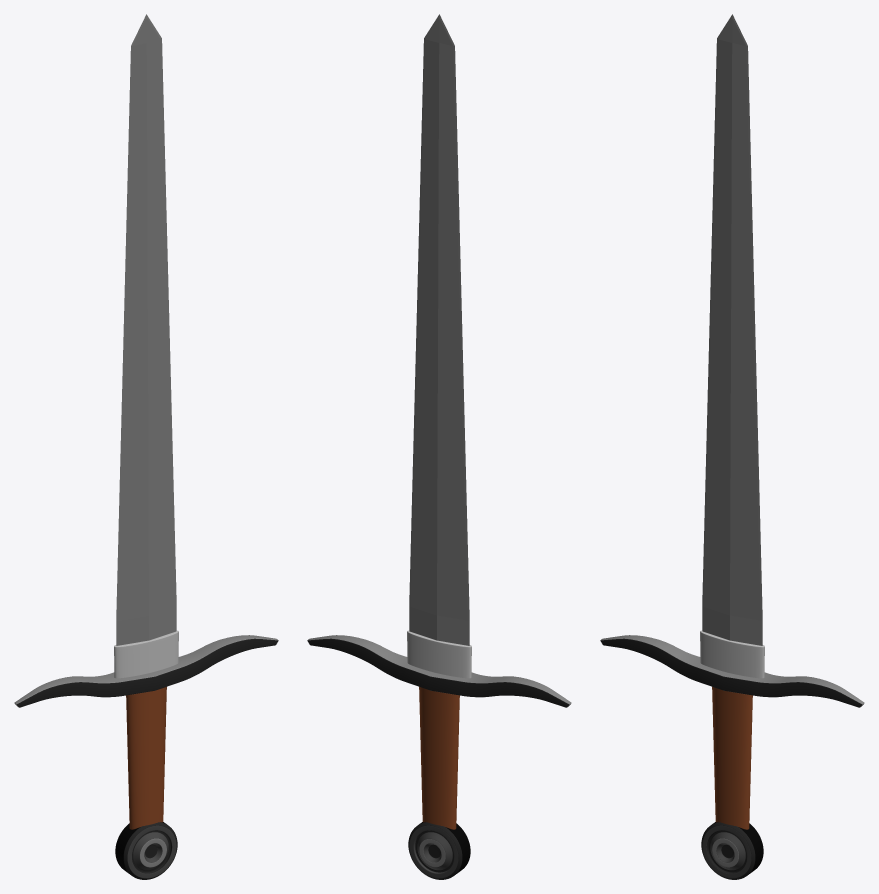
The model's file is Espada.fbx.
The picture shows the model from 3 angles, left to right: view 1: azimuth 30°, elevation 25°; view 2: azimuth 150°, elevation 25°; view 3: azimuth 330°, elevation 25°; orthographic projection.
Visible parts, largest first — view 1: Espada; view 2: Espada; view 3: Espada.
Boxes of the visible parts, box(x1,y1,x2,y2) form: Espada: box(14, 14, 278, 879); Espada: box(307, 14, 571, 879); Espada: box(600, 14, 864, 879).
Size of the model in its own units: 966 by 3033 by 111.
Materials: 3 (3 with a texture image).
